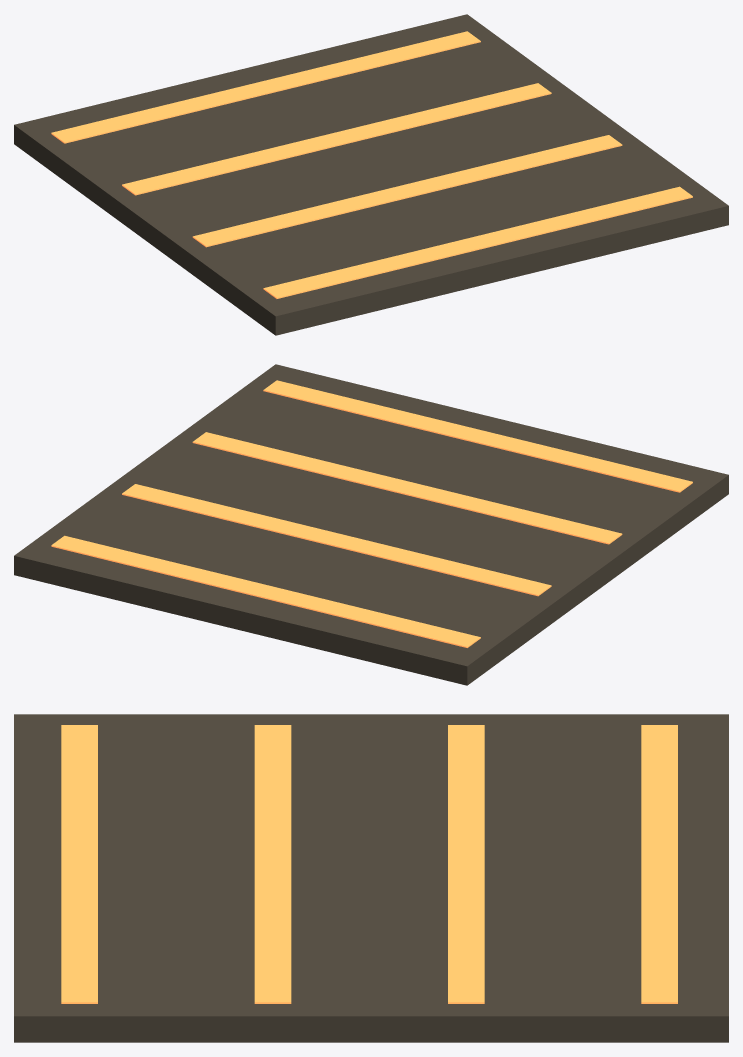
Rendered from s3_ondol_hot_tile.glb.
The picture shows the model from 3 angles, top to bottom: view 1: azimuth 30°, elevation 25°; view 2: azimuth 150°, elevation 25°; view 3: azimuth 270°, elevation 25°; orthographic projection. The views are drawn at different scales.
Parts seen in each view (by area): view 1: s3_ondol_hot_tile; view 2: s3_ondol_hot_tile; view 3: s3_ondol_hot_tile.
Part boxes in pixels (x1,y1,x2,y2): s3_ondol_hot_tile: (14,14,728,335); s3_ondol_hot_tile: (14,364,728,685); s3_ondol_hot_tile: (14,714,728,1042).
Bounding box in the file's own units: 1.96 × 0.09 × 1.96.
